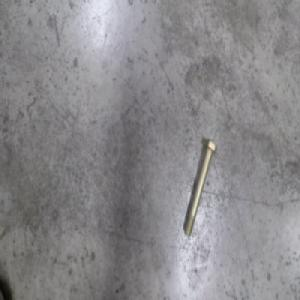Bolt: (182, 136, 217, 237)
